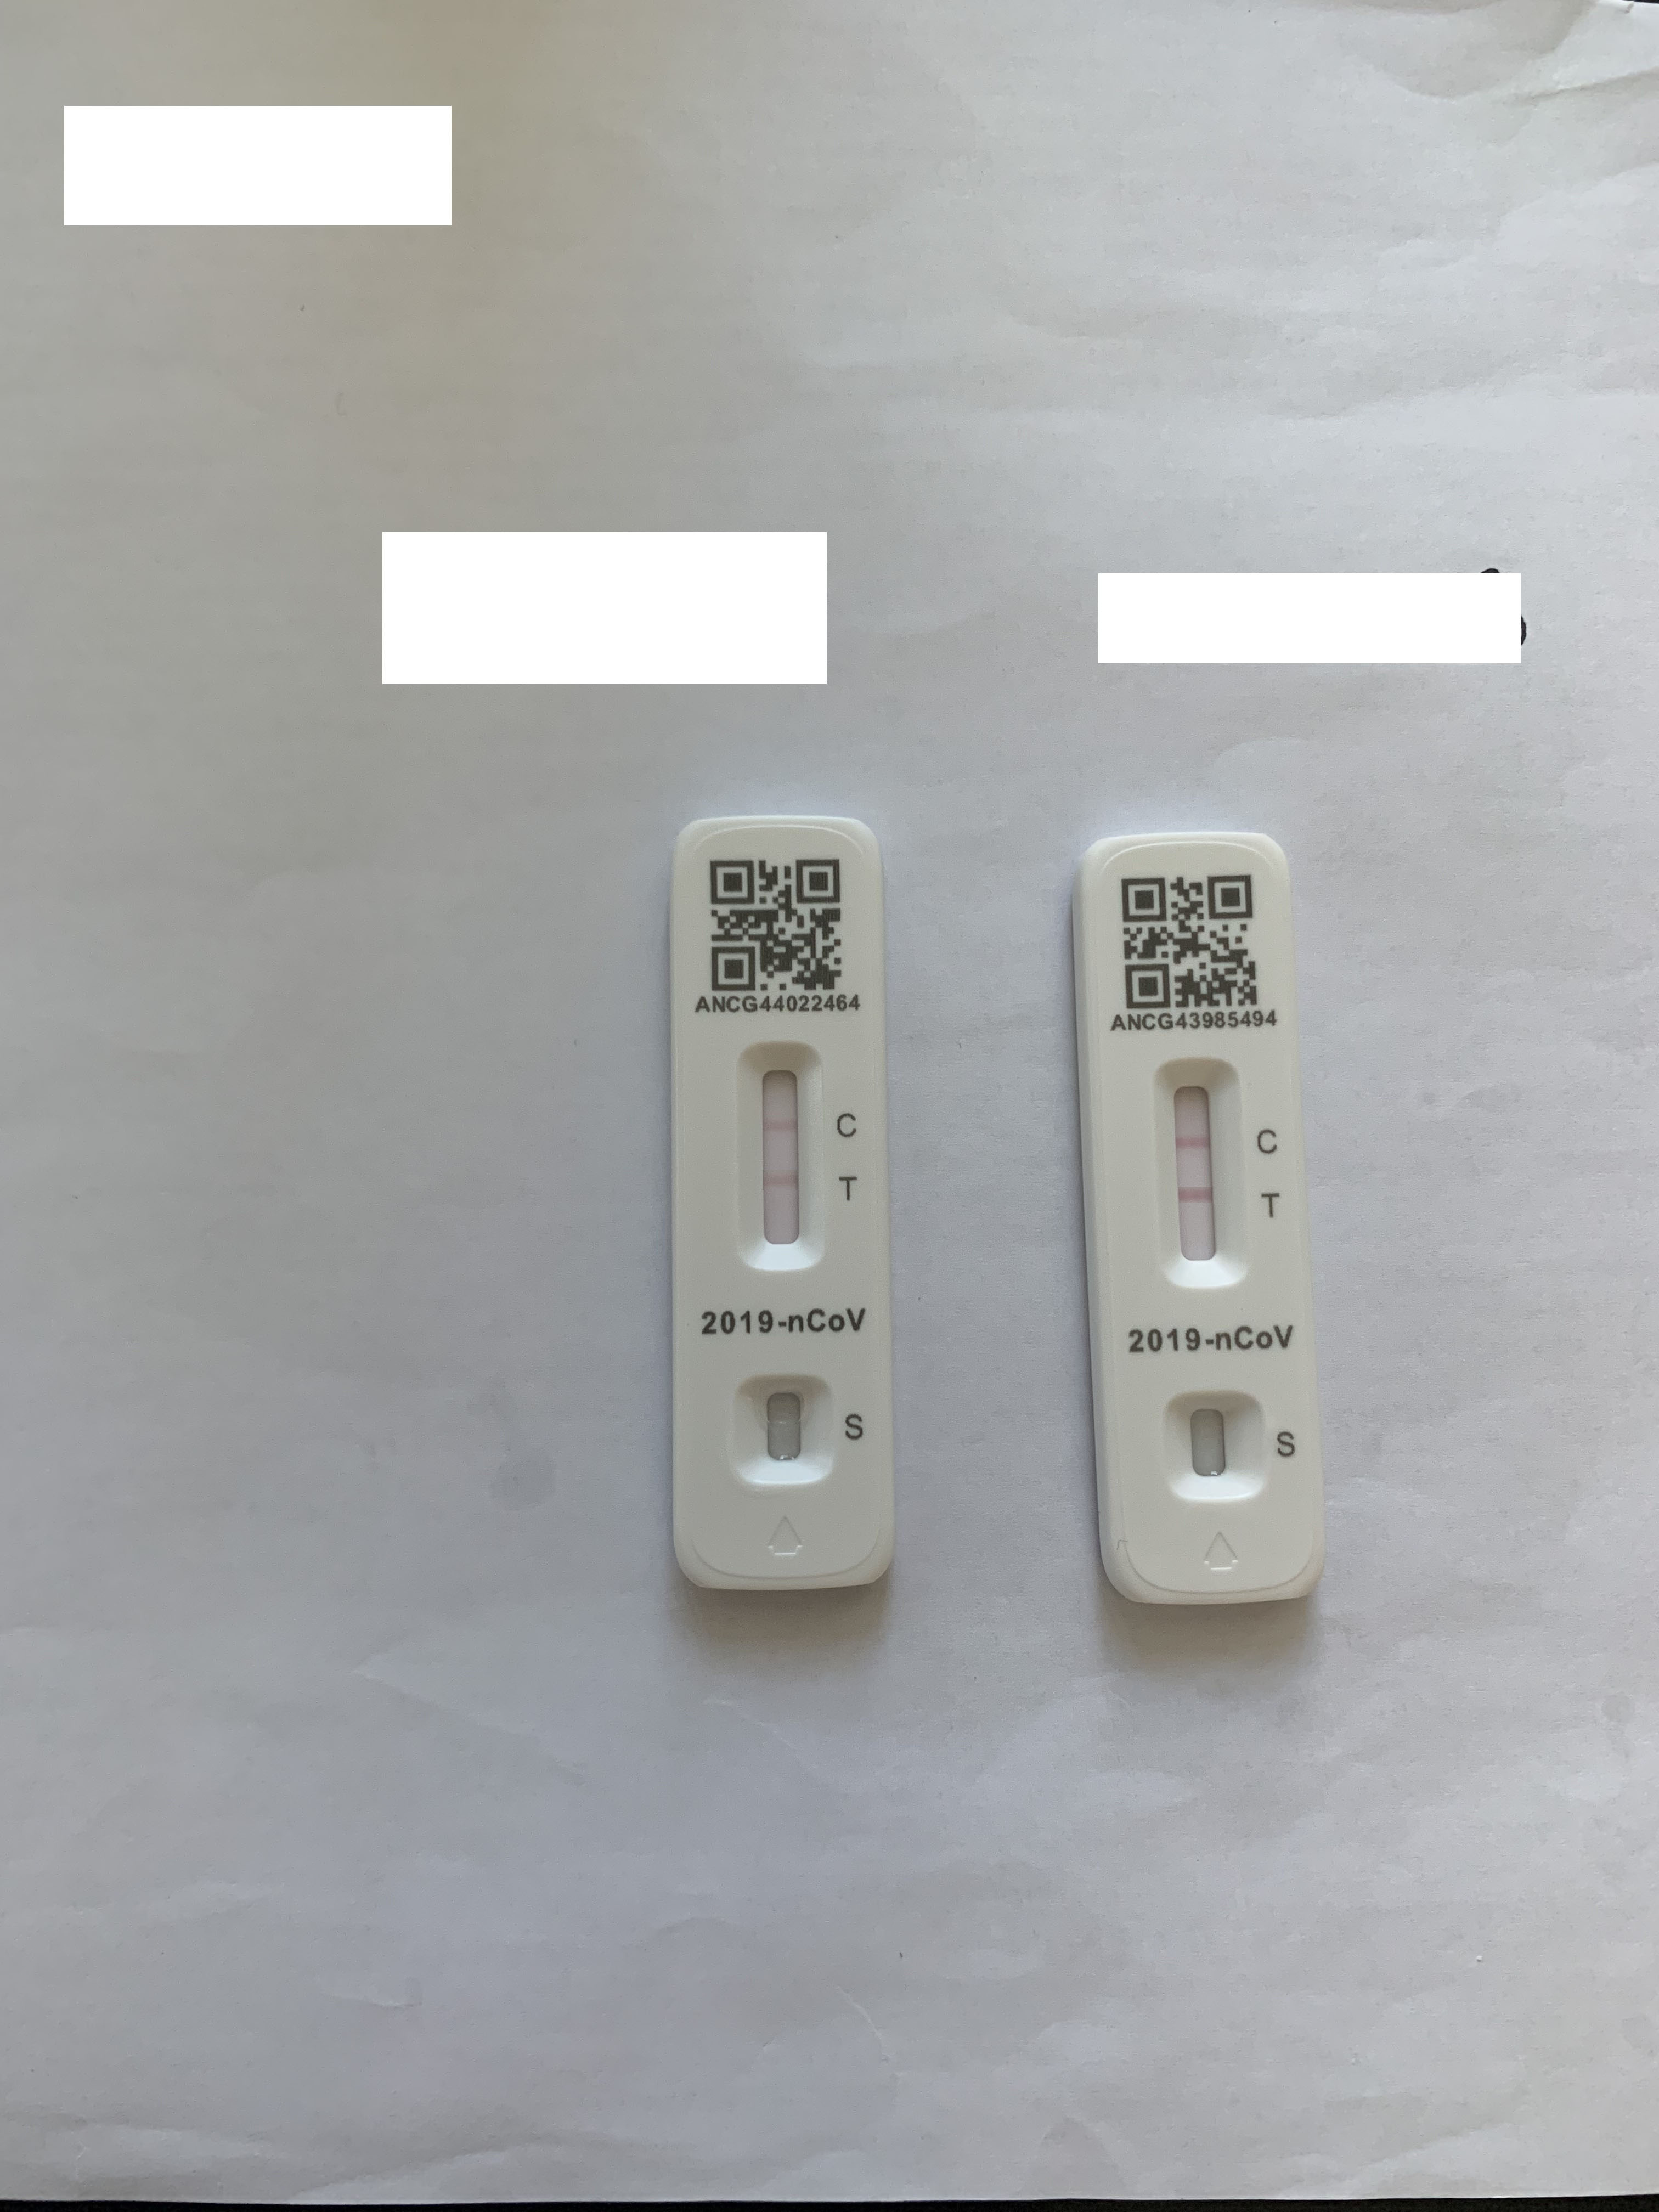positive: (739, 1052, 823, 1264), (1162, 1055, 1241, 1273)
